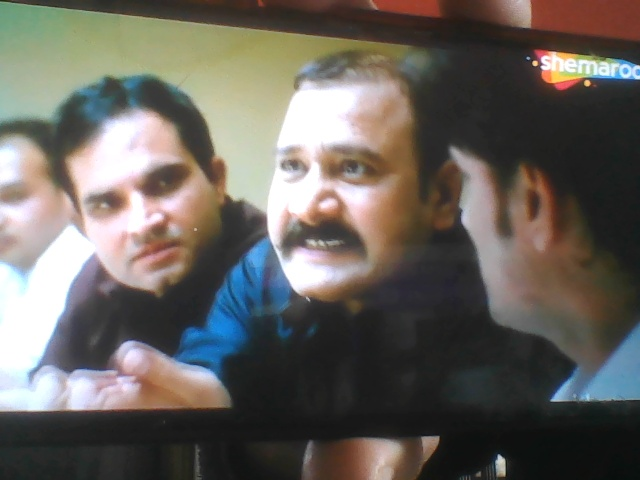fake: (247, 23, 453, 315), (67, 73, 227, 300)
